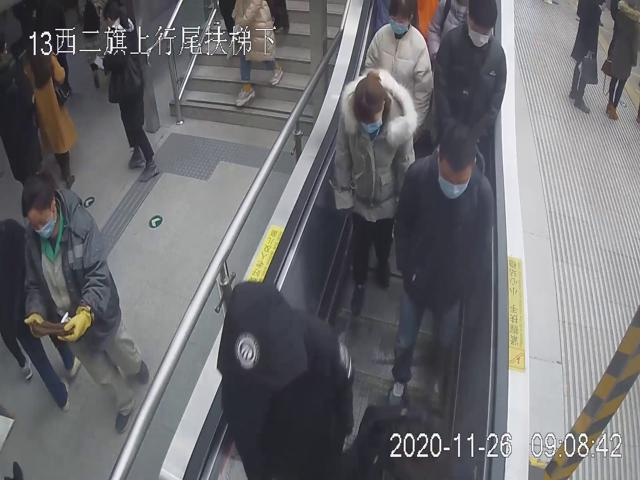person: (14, 165, 151, 434), (387, 124, 494, 409), (332, 69, 418, 317), (93, 4, 161, 183), (432, 0, 507, 158), (362, 0, 432, 129)
